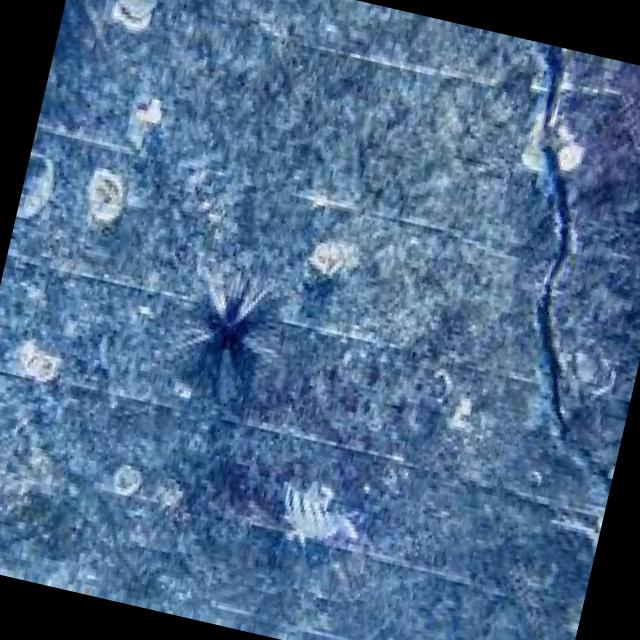crack: (434, 39, 640, 488)
